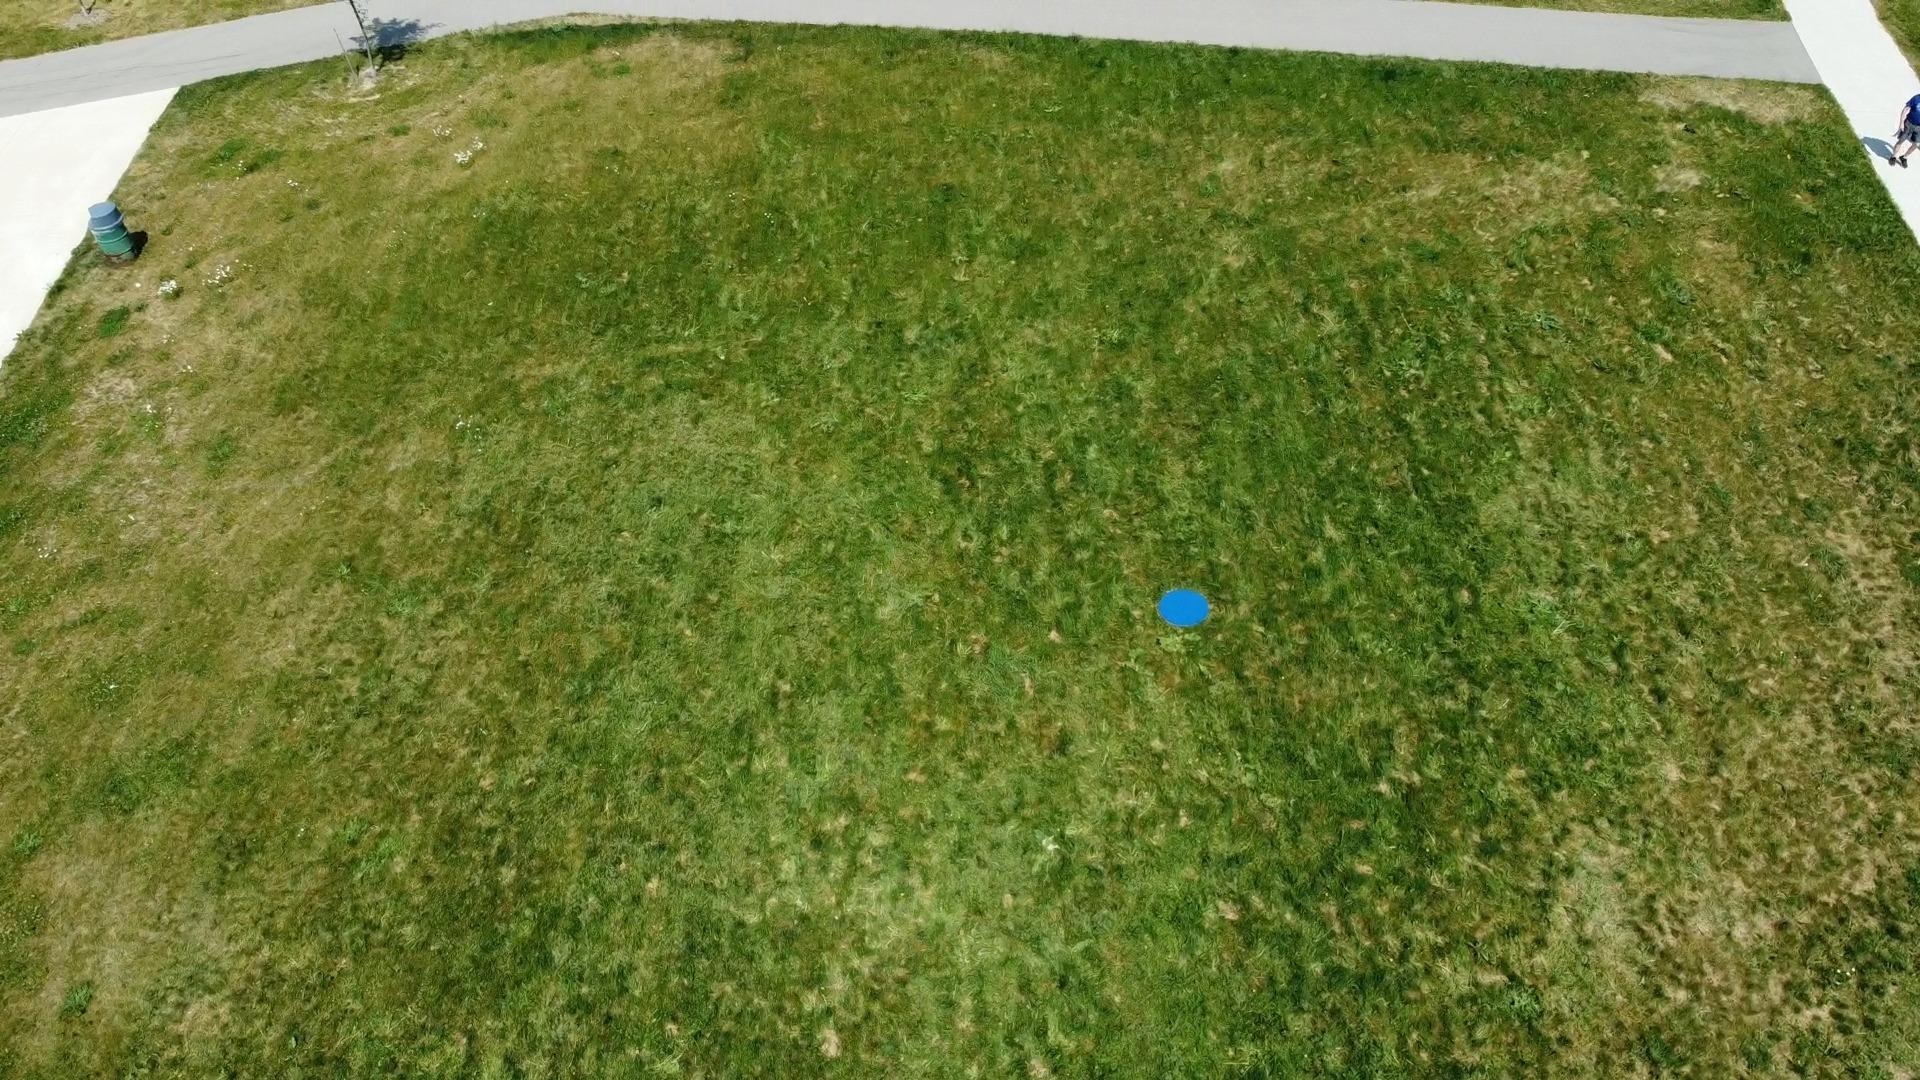Blue: (1158, 584, 1211, 629)
